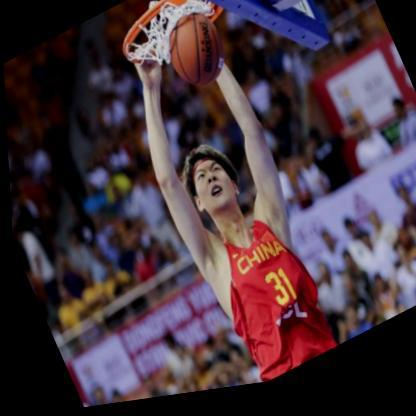basketball: (154, 7, 234, 105)
